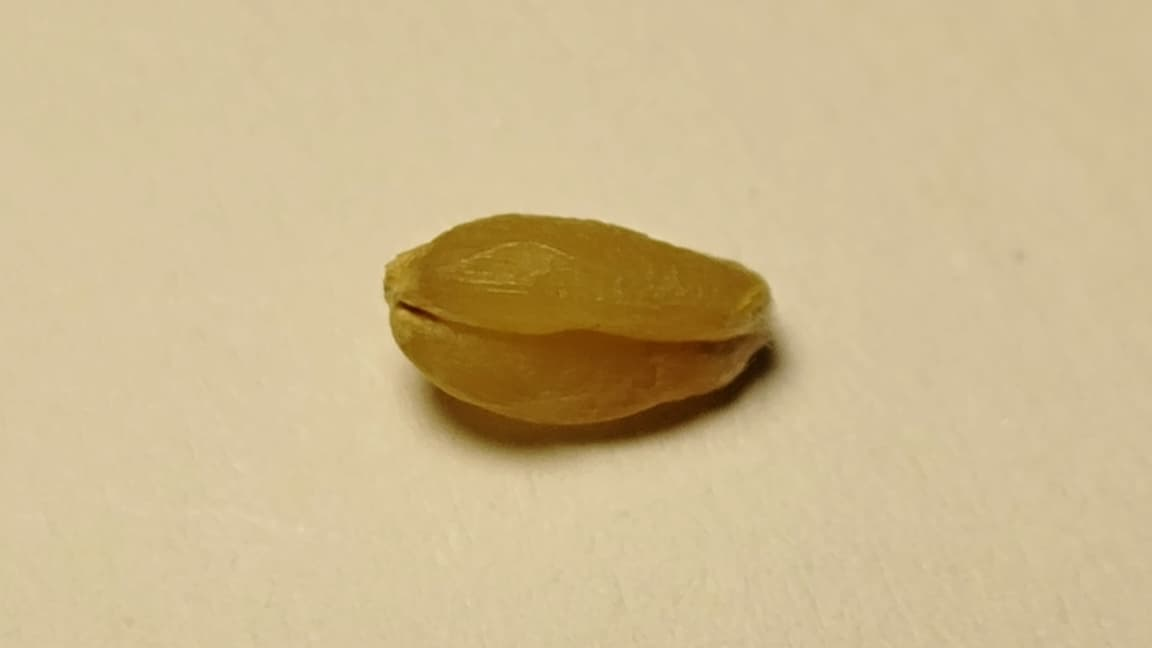healthy: (385, 215, 768, 425)
